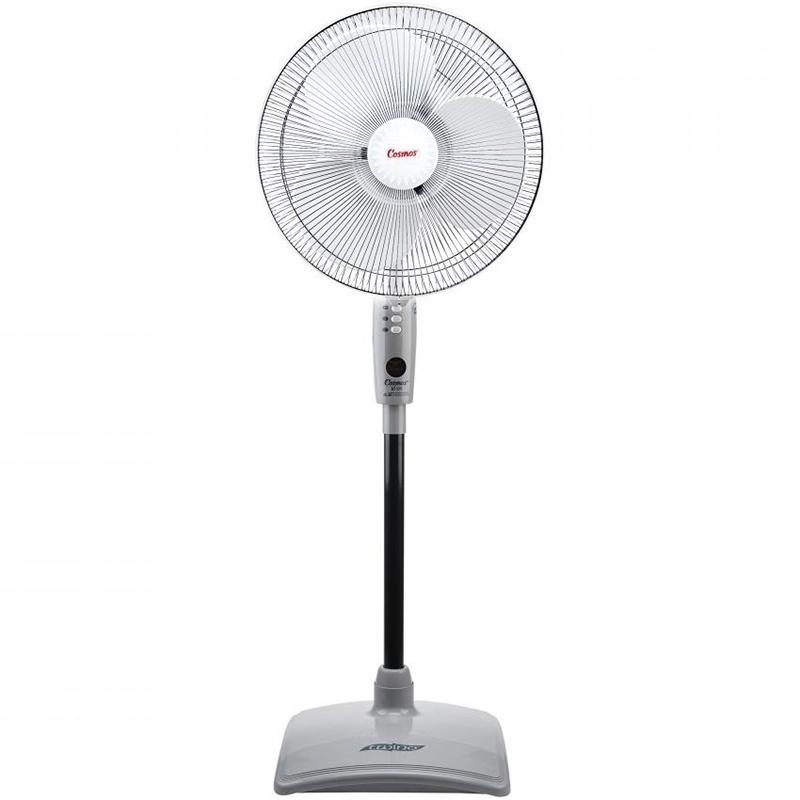fan: (215, 5, 590, 800)
